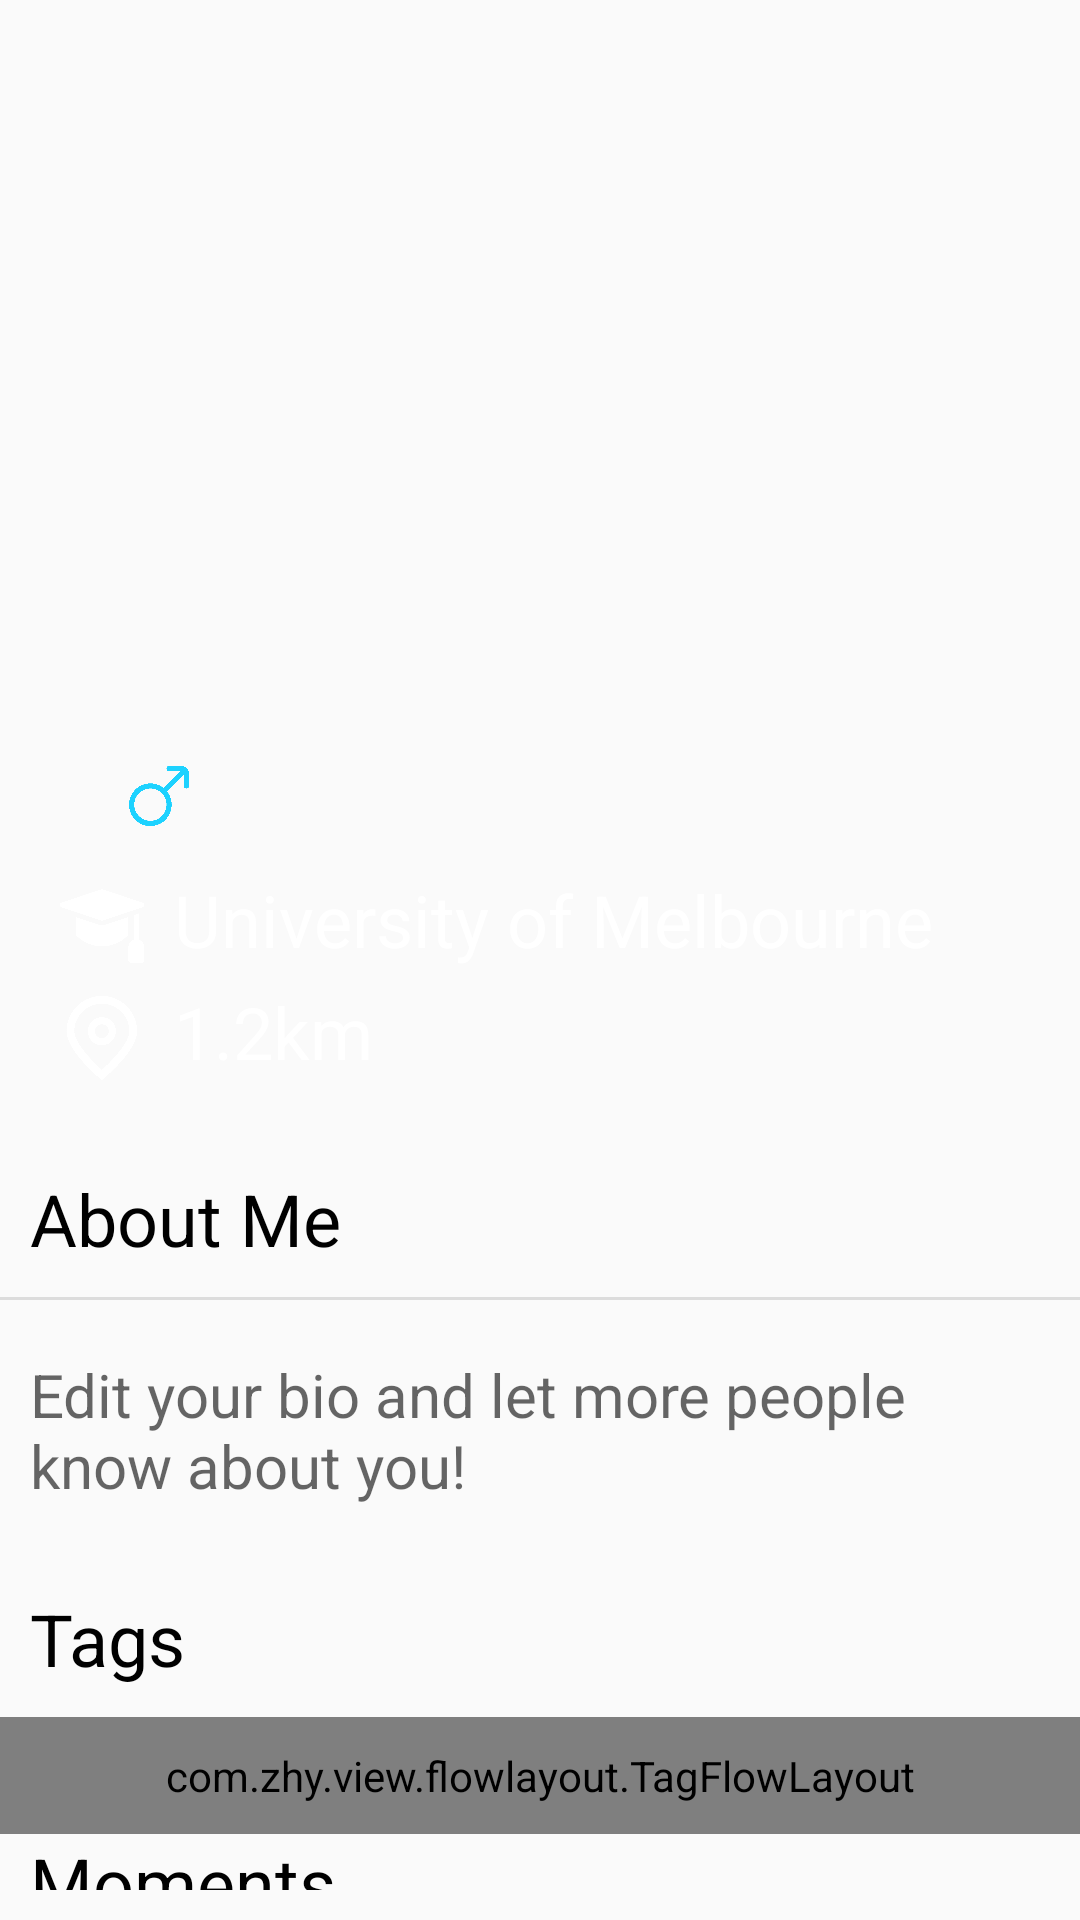

Named icons in this screenshot (1080px×1920px) and their bounding boxes, (x1, y1, x2, y2):
mars: (129, 766, 189, 826)
